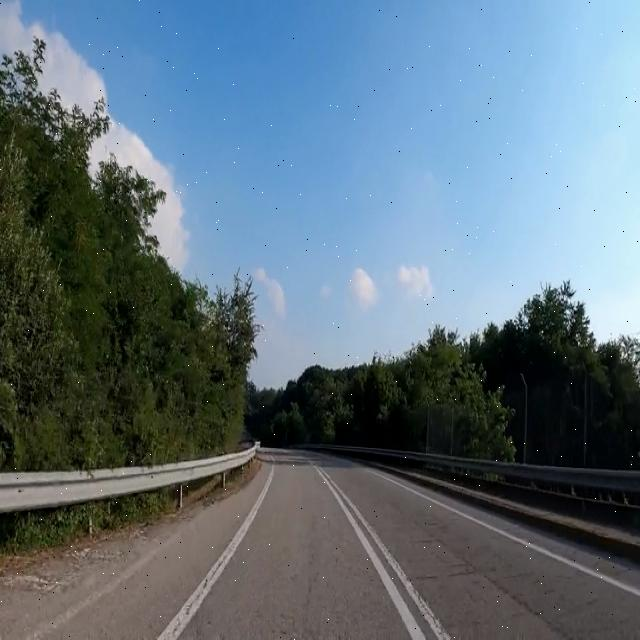lane: (372, 472, 640, 597), (159, 466, 274, 639), (331, 482, 450, 640), (317, 468, 425, 639)
road: (0, 449, 640, 639)
